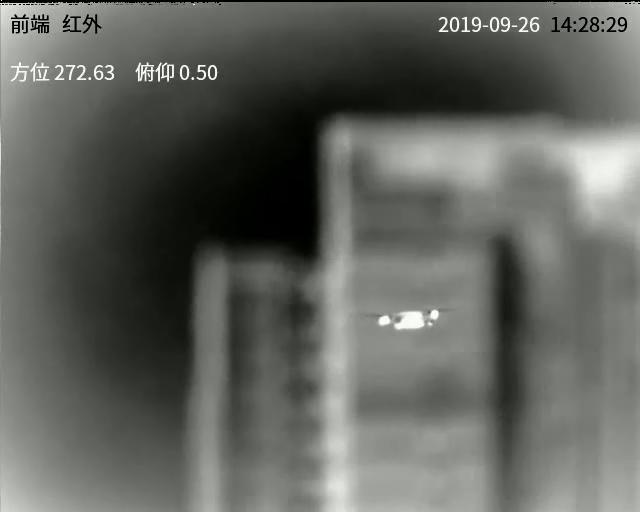uav: (360, 306, 454, 335)
